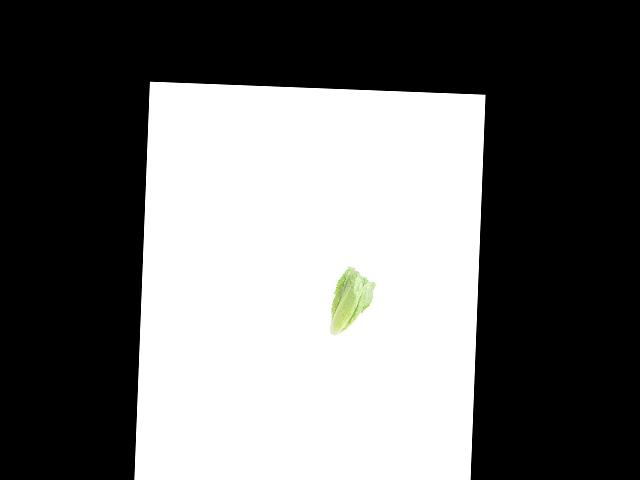lettuce: (328, 266, 376, 343)
